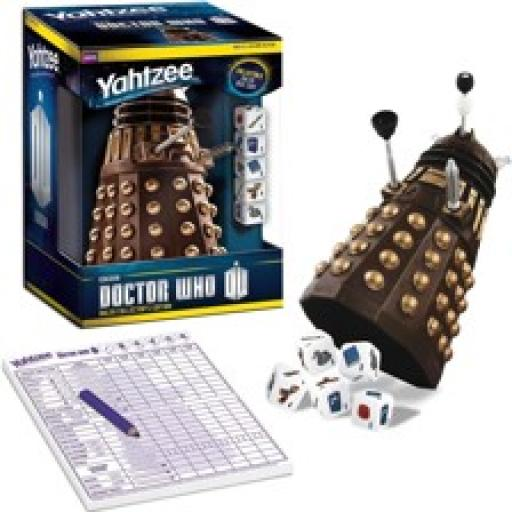dalek: (295, 71, 512, 388), (89, 76, 241, 269)
